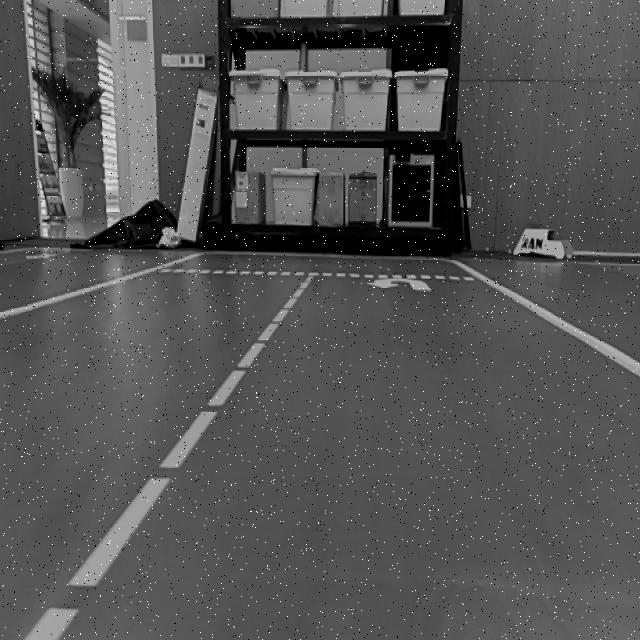left_lane: (24, 272, 319, 640)
right_lane: (456, 259, 640, 381), (0, 252, 202, 322)
